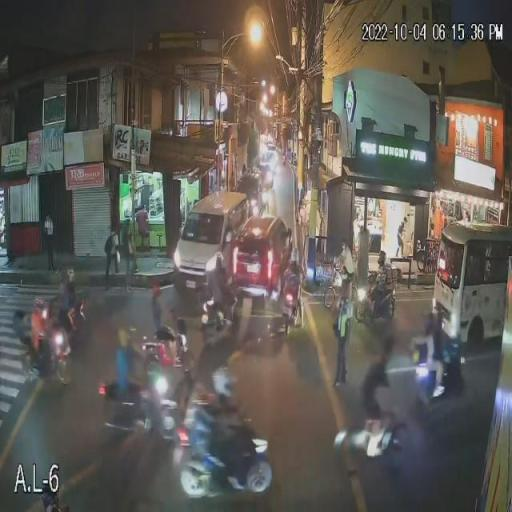helmet: (211, 366, 235, 394), (118, 324, 139, 346), (34, 295, 46, 311), (376, 251, 386, 267), (65, 268, 76, 282), (152, 282, 161, 296), (55, 269, 65, 281)
motorcycle: (174, 394, 274, 498), (98, 337, 186, 440), (334, 393, 434, 462), (20, 303, 74, 383), (408, 350, 466, 406), (198, 291, 244, 349), (50, 300, 88, 348), (274, 273, 304, 331), (361, 276, 396, 322)
rider: (186, 365, 246, 446), (361, 326, 399, 426), (145, 282, 181, 368), (110, 324, 144, 406), (204, 251, 236, 319), (412, 316, 440, 385), (26, 296, 58, 356), (55, 266, 80, 327), (278, 248, 302, 302), (370, 252, 390, 298)
